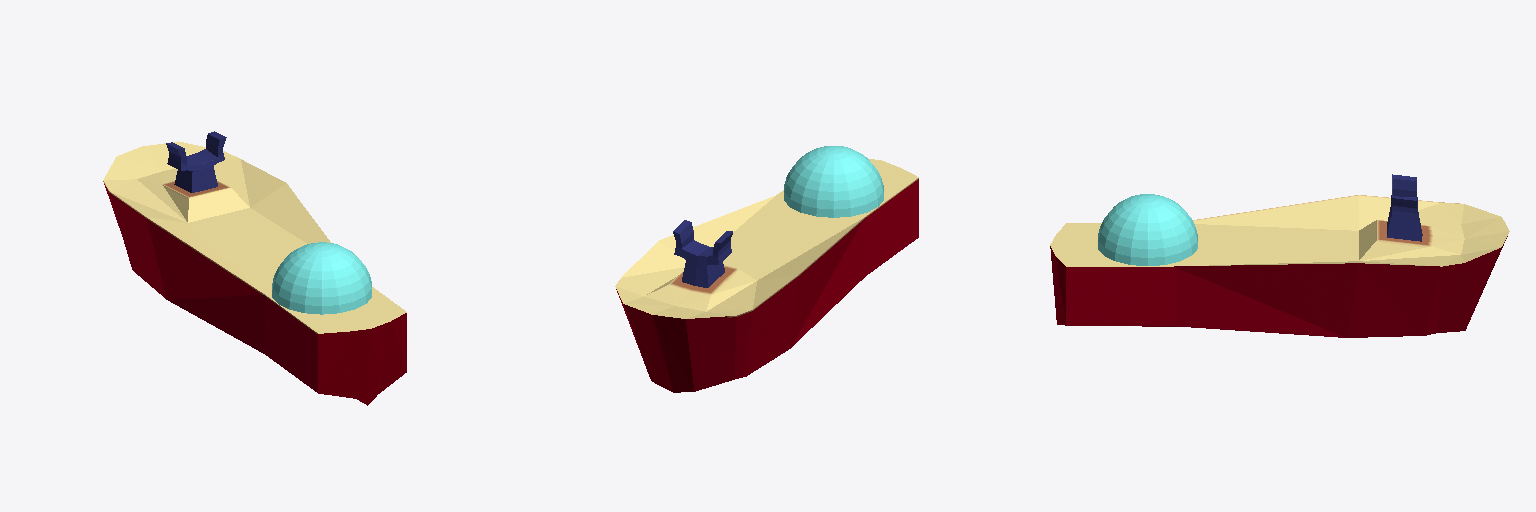
3 renders of one model, left to right at view 1: azimuth 30°, elevation 25°; view 2: azimuth 150°, elevation 25°; view 3: azimuth 270°, elevation 25°, orthographic.
Parts seen in each view (by area): view 1: pCube73, pSphere5; view 2: pCube73, pSphere5; view 3: pCube73, pSphere5.
Boxes of the visible parts, box(x1,y1,x2,y2) form: pCube73: box(103, 131, 406, 405); pSphere5: box(272, 242, 371, 314); pCube73: box(615, 159, 918, 392); pSphere5: box(784, 146, 883, 217); pCube73: box(1050, 174, 1509, 337); pSphere5: box(1098, 194, 1197, 265).
Bounding box in the file's own units: 2.45 × 2.37 × 6.97.
Materials: 2 (2 with a texture image).